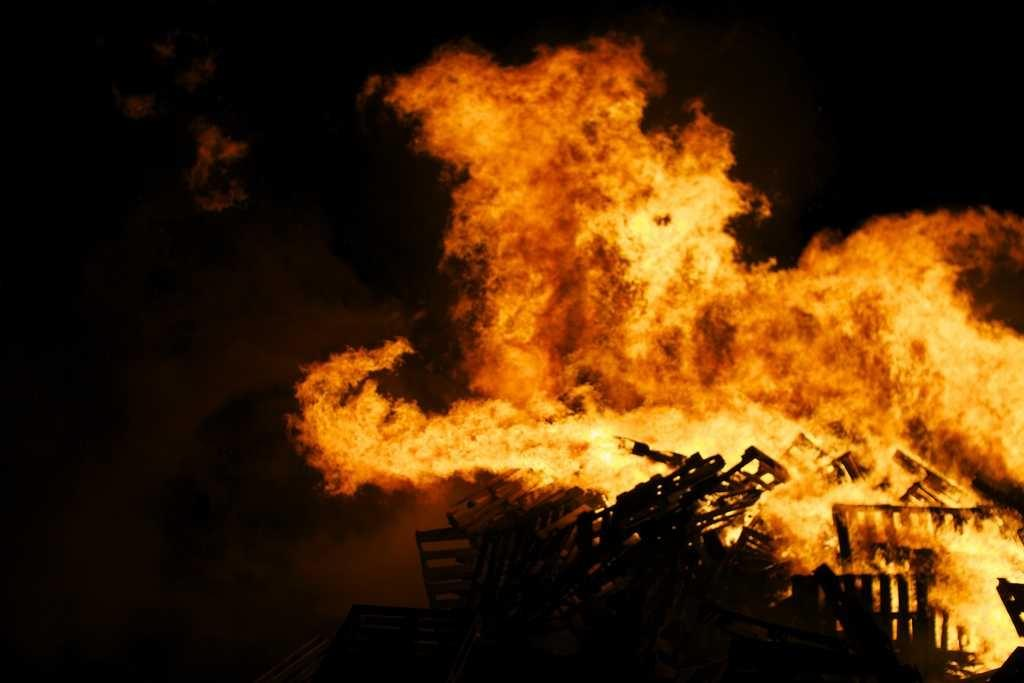fire: (475, 93, 645, 392), (745, 273, 945, 442), (658, 165, 733, 443), (375, 415, 633, 473), (968, 322, 1007, 467), (952, 542, 1002, 642)
